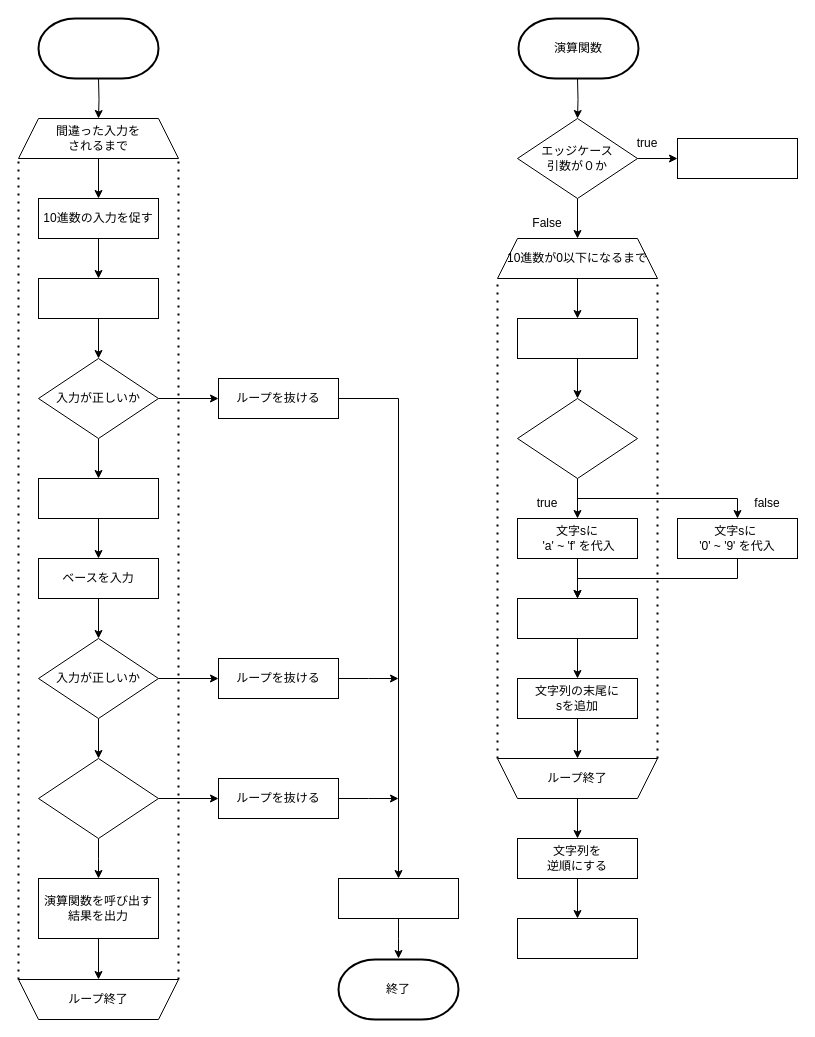
Image size: 815x1037. Some labels were removed from this diagram. The shapes that lost their labels are listed below. From the top down, each one's box as (x1, y1, x2, y2) in pixels, then its label:
(37, 17, 159, 79): 開始
(676, 138, 798, 178): 文字'0'を返す
(38, 278, 158, 318): 10進数を入力
(516, 318, 638, 358): 10進数をベースで 割った余りを計算
(516, 398, 638, 478): ベースが11以上 かつ 余りが10以上
(38, 478, 158, 518): ベースの数値の 入力を促す
(516, 598, 638, 638): 10進数をベースで割った商を計算
(38, 758, 158, 838): 数値の範囲が 正しいか
(338, 878, 458, 918): エラーを通知
(516, 918, 638, 958): 文字列を返す
